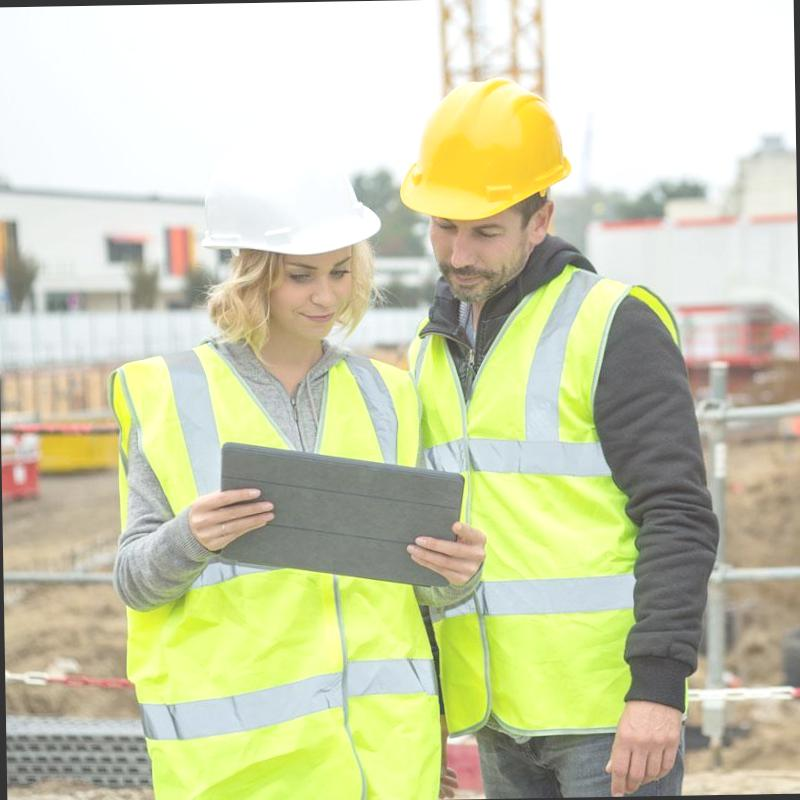helmet: (388, 80, 584, 225), (194, 138, 386, 264)
person: (384, 69, 723, 800), (100, 128, 421, 800)
